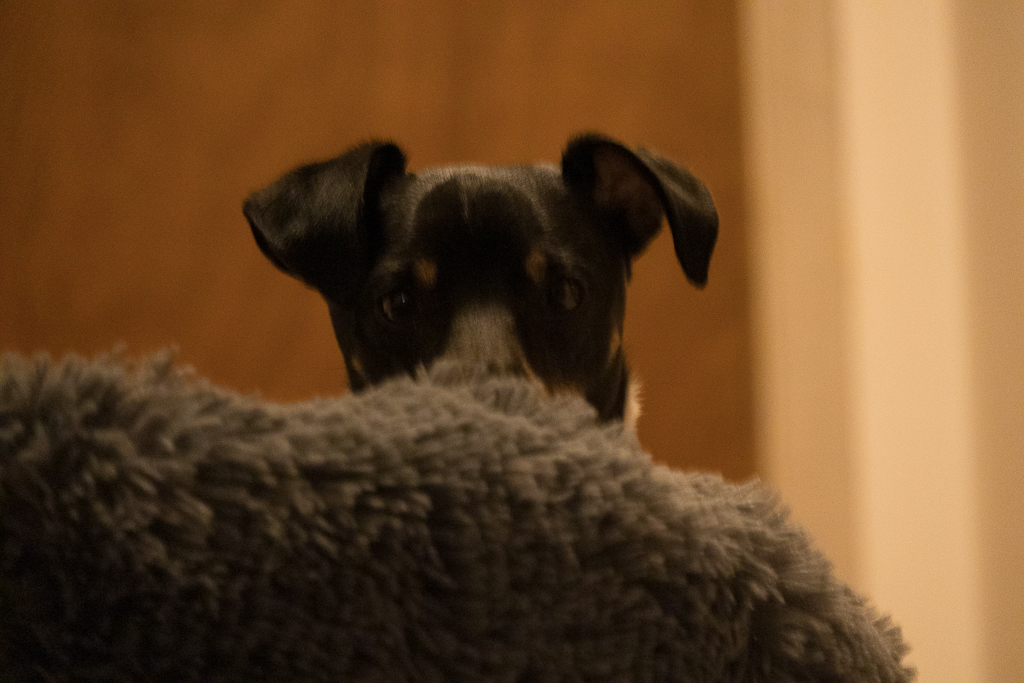Dog: (225, 110, 737, 488)
